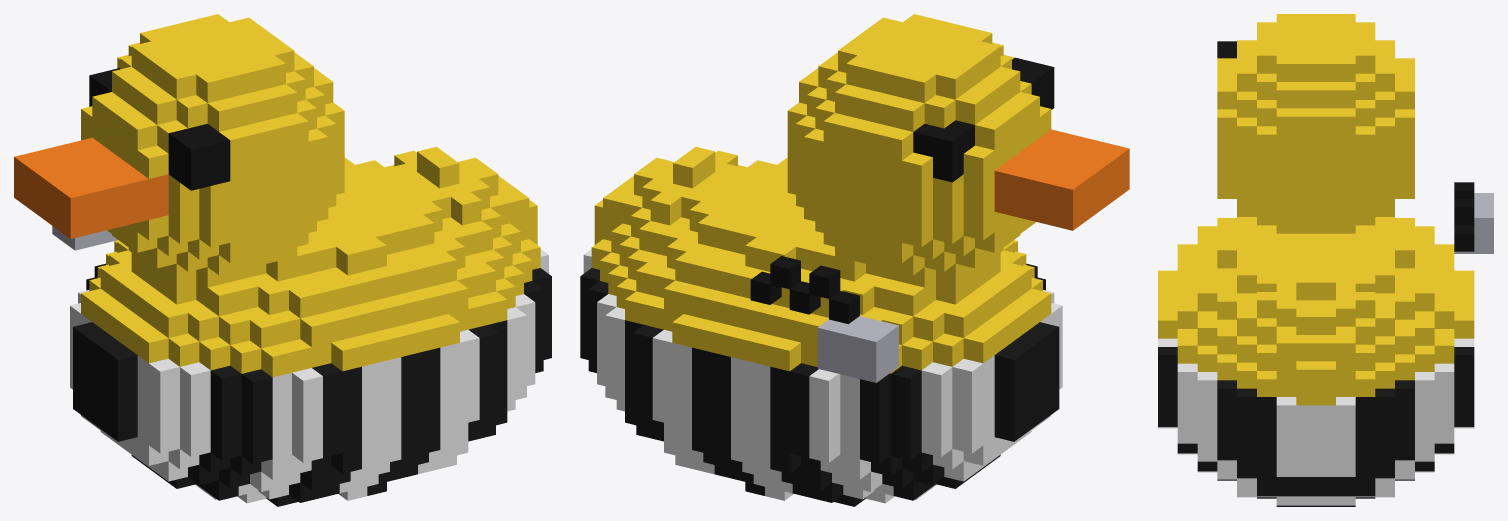
The model's file is recuerdo_14.obj.
The picture shows the model from 3 angles, left to right: view 1: azimuth 30°, elevation 25°; view 2: azimuth 150°, elevation 25°; view 3: azimuth 270°, elevation 25°; orthographic projection. The views are drawn at different scales.
Visible parts, largest first — view 1: cuerpo_amarillo, cabeza_amarillo, cuerpo_raya_negra, cuerpo_raya_blanca, pico_naranja, ojos_negro, silbato_metal; view 2: cabeza_amarillo, cuerpo_amarillo, cuerpo_raya_negra, cuerpo_raya_blanca, pico_naranja, silbato_metal, cordon_negro, ojos_negro; view 3: cabeza_amarillo, cuerpo_amarillo, cuerpo_raya_negra, cuerpo_raya_blanca, cordon_negro, silbato_metal.
Boxes of the visible parts, left/top/right/bottom form: cuerpo_amarillo: left=81, top=157, right=540, bottom=377; cabeza_amarillo: left=81, top=14, right=537, bottom=287; cuerpo_raya_negra: left=73, top=263, right=551, bottom=506; cuerpo_raya_blanca: left=70, top=249, right=548, bottom=503; pico_naranja: left=14, top=137, right=168, bottom=238; ojos_negro: left=89, top=68, right=230, bottom=190; silbato_metal: left=52, top=226, right=117, bottom=250; cabeza_amarillo: left=594, top=14, right=1051, bottom=287; cuerpo_amarillo: left=591, top=157, right=1051, bottom=373; cuerpo_raya_negra: left=580, top=263, right=1059, bottom=506; cuerpo_raya_blanca: left=583, top=249, right=1062, bottom=503; pico_naranja: left=994, top=129, right=1129, bottom=230; silbato_metal: left=817, top=316, right=898, bottom=382; cordon_negro: left=750, top=256, right=859, bottom=324; ojos_negro: left=913, top=57, right=1054, bottom=182; cabeza_amarillo: left=1217, top=14, right=1414, bottom=405; cuerpo_amarillo: left=1158, top=217, right=1474, bottom=396; cuerpo_raya_negra: left=1158, top=347, right=1474, bottom=506; cuerpo_raya_blanca: left=1158, top=338, right=1474, bottom=505; cordon_negro: left=1454, top=182, right=1474, bottom=251; silbato_metal: left=1454, top=193, right=1493, bottom=253.
Size of the model in its own units: 1 by 0.84 by 0.68.
